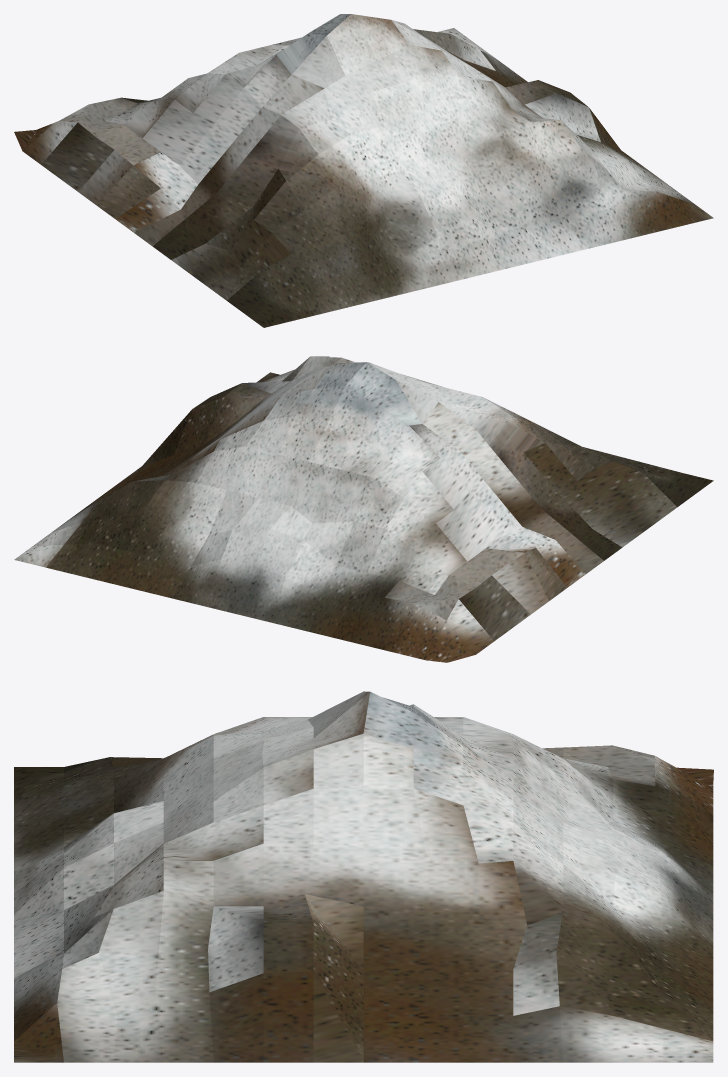
Rendered from hillfbx.fbx.
The picture shows the model from 3 angles, top to bottom: view 1: azimuth 30°, elevation 25°; view 2: azimuth 150°, elevation 25°; view 3: azimuth 270°, elevation 25°; orthographic projection. The views are drawn at different scales.
Parts seen in each view (by area): view 1: Hil; view 2: Hil; view 3: Hil.
Part boxes in pixels (box(x1,y1,x2,y2)): Hil: box(14, 14, 713, 327); Hil: box(14, 356, 713, 662); Hil: box(14, 691, 713, 1062).
Size of the model in its own units: 200 by 69.38 by 200.
